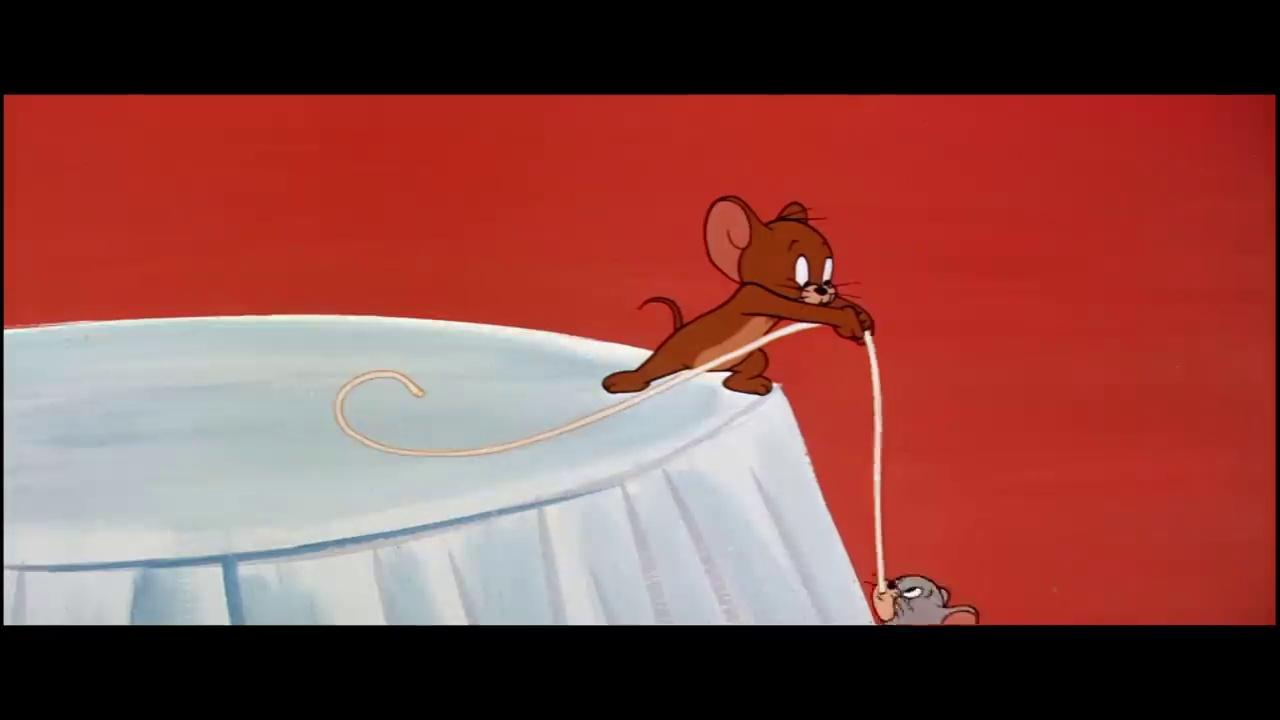Jerry: (601, 192, 877, 397)
